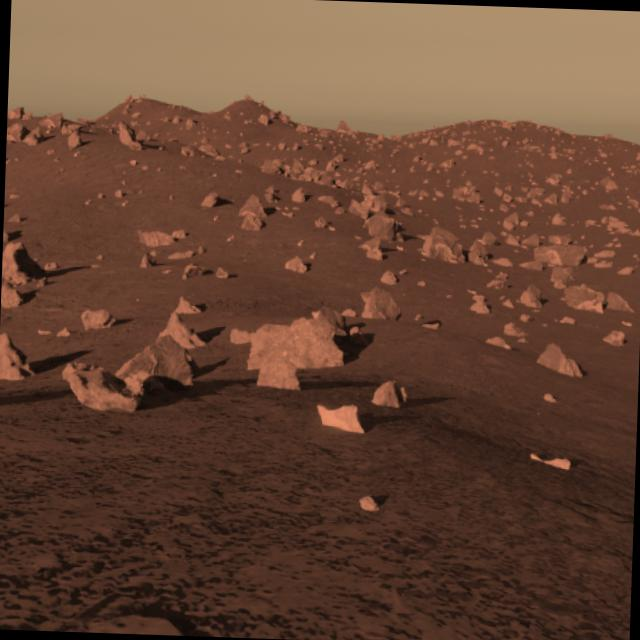rock: (232, 308, 348, 374), (114, 336, 201, 396), (558, 272, 626, 326), (61, 359, 129, 409), (0, 233, 48, 300), (416, 217, 473, 270), (350, 280, 404, 326), (354, 208, 402, 250), (538, 338, 584, 381)
